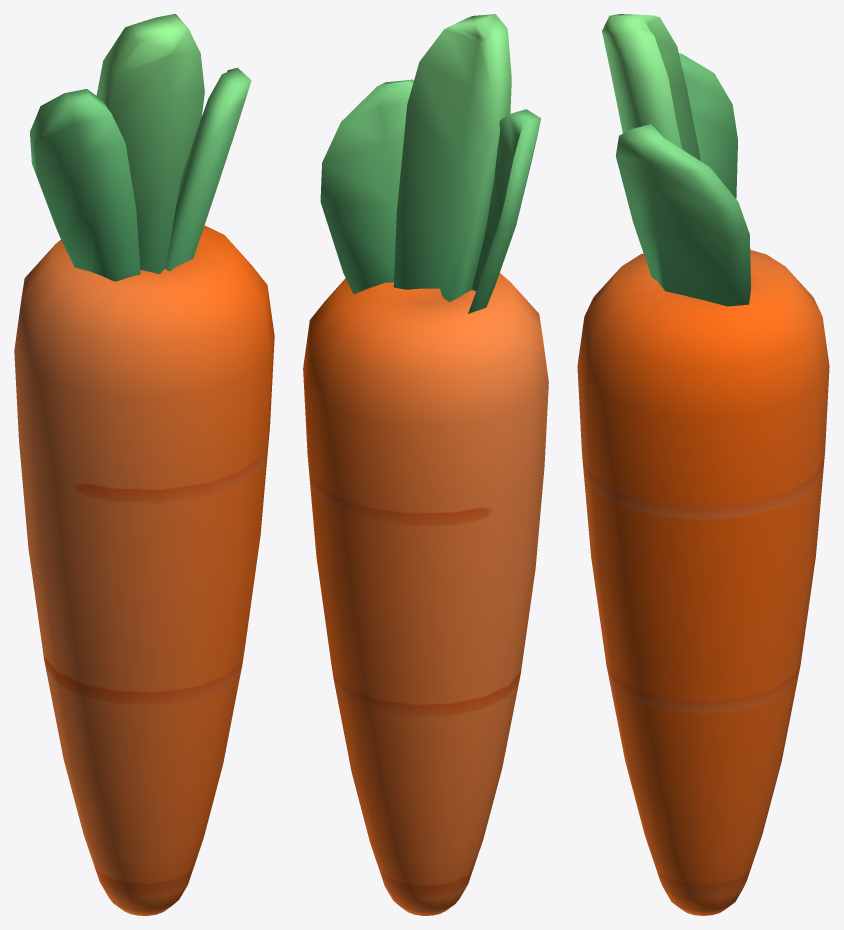
File: Carrot.fbx
3 views of the same model, side by side, from view 1: azimuth 30°, elevation 25°; view 2: azimuth 150°, elevation 25°; view 3: azimuth 270°, elevation 25° (orthographic). The views are drawn at different scales.
Parts seen in each view (by area): view 1: Carrot; view 2: Carrot; view 3: Carrot.
Part boxes in pixels (x1,y1,x2,y2): Carrot: [14, 14, 274, 915]; Carrot: [303, 14, 548, 915]; Carrot: [577, 14, 829, 915].
Bounding box in the file's own units: 6.64 × 25.69 × 6.64.
